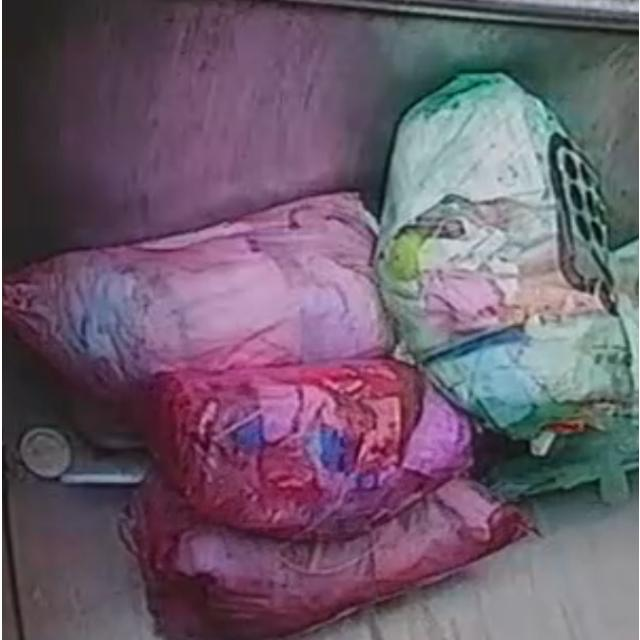general_trashbag: (378, 74, 632, 435)
other_trashbag: (4, 194, 390, 436), (121, 474, 532, 640), (150, 358, 472, 537)
